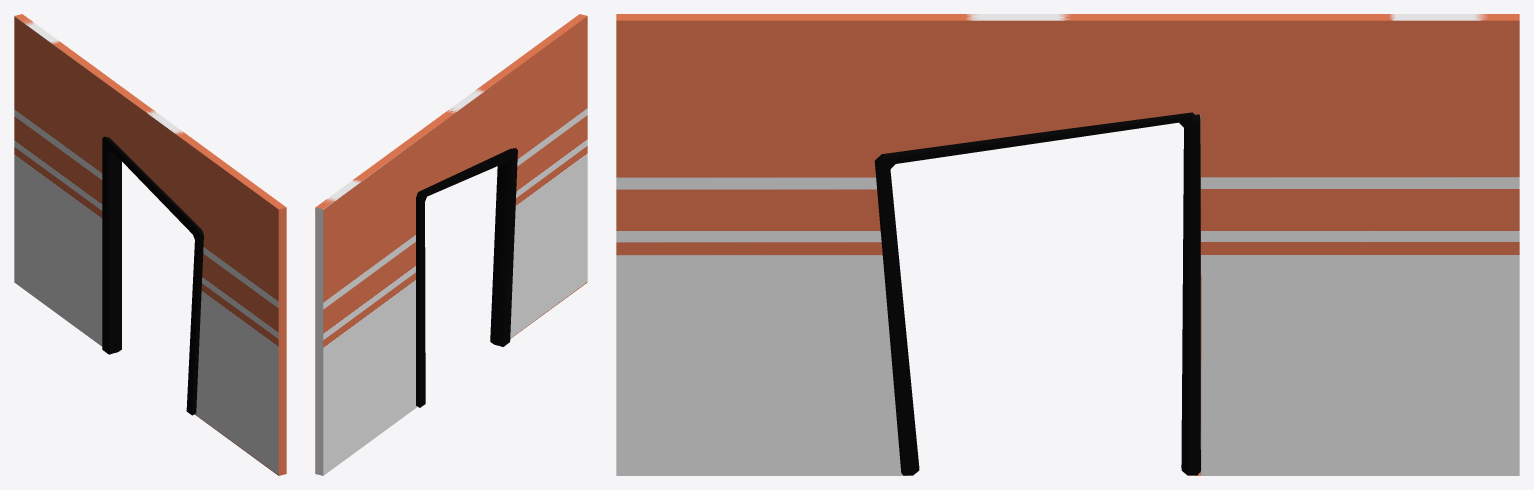
Rendered from JustDoor.fbx.
3 views of the same model, side by side, from view 1: azimuth 30°, elevation 25°; view 2: azimuth 150°, elevation 25°; view 3: azimuth 270°, elevation 25° (orthographic). The views are drawn at different scales.
Visible parts, largest first — view 1: Cube.003; view 2: Cube.003; view 3: Cube.003.
Boxes of the visible parts, left/top/right/bottom form: Cube.003: left=14, top=14, right=286, bottom=475; Cube.003: left=315, top=14, right=587, bottom=475; Cube.003: left=616, top=14, right=1519, bottom=475.
Bounding box in the file's own units: 17.66 × 300 × 540.
Materials: 2 (1 with a texture image).
